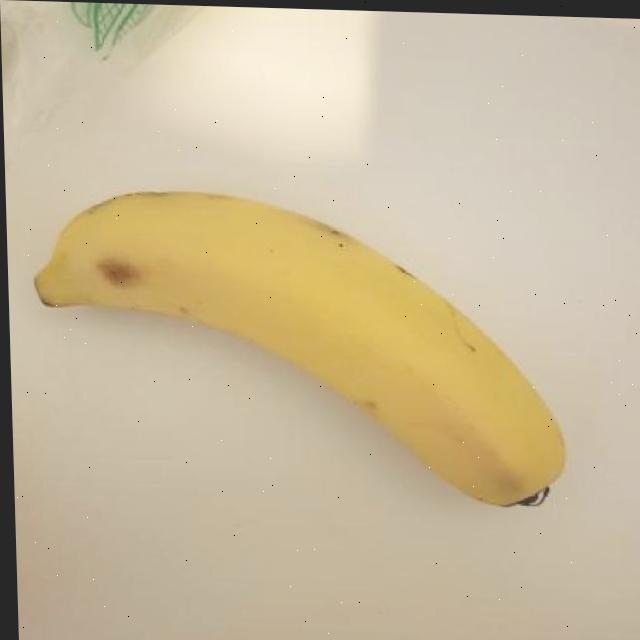banana: (16, 179, 576, 512)
